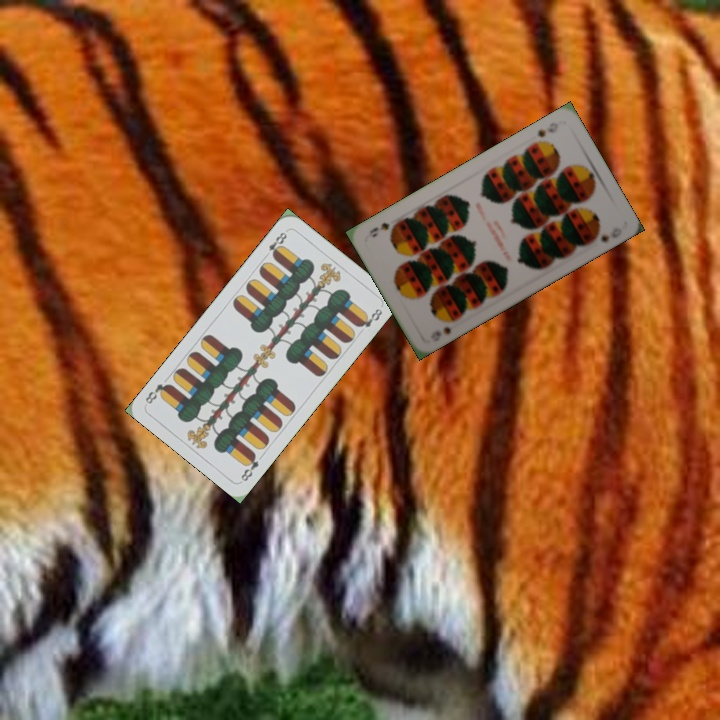E8: (260, 227, 290, 261), (237, 449, 261, 484)
S9: (533, 118, 561, 140), (439, 314, 459, 337)
